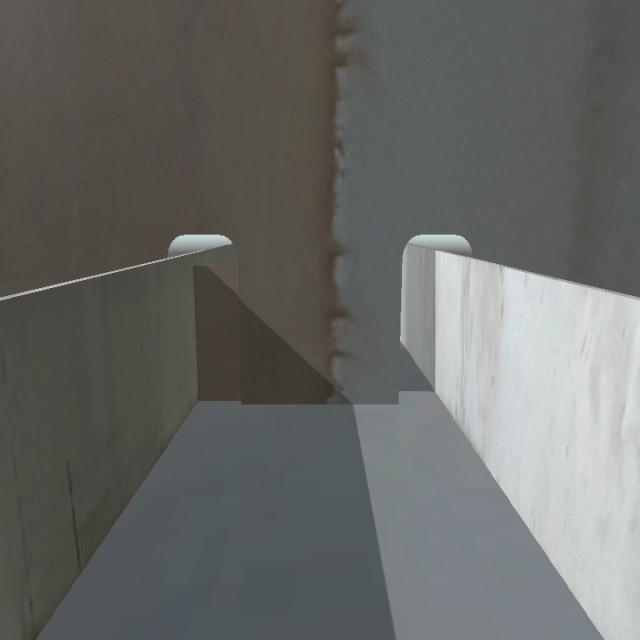fillet_yong_jeop_jang: (194, 394, 401, 418)
longi_yong_jeop_jang: (188, 264, 214, 410)
plate_behind: (194, 258, 242, 401), (266, 470, 267, 471)
